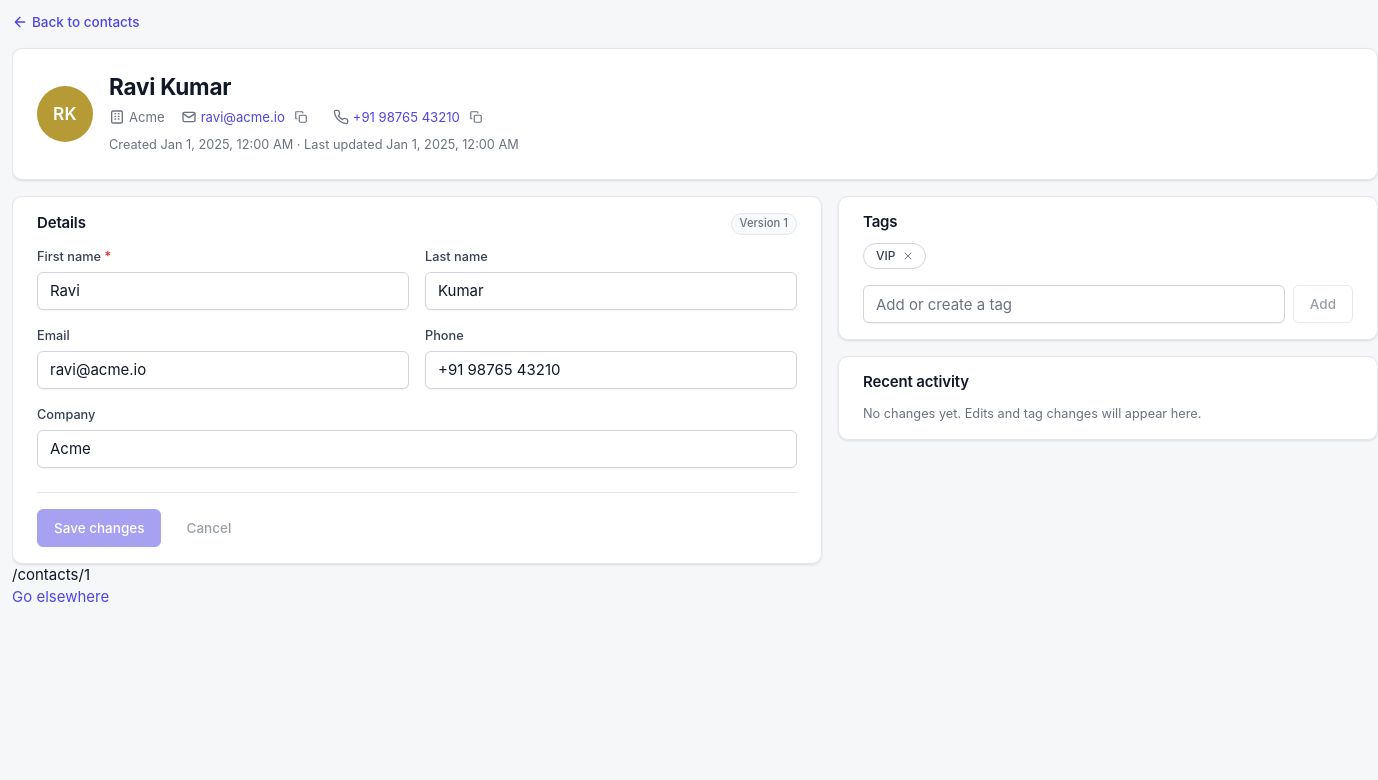
TagEditor: optimistic updates › shows a new tag instantly, marked pending, then confirmed when the server answers
This screenshot has width=1378, height=780.
Expected: the heading "Ravi Kumar" is shown, [109,73,231,100]
Type "Partner" into the dropdown named "New tag" at (1074, 304), box [863,285,1285,323]
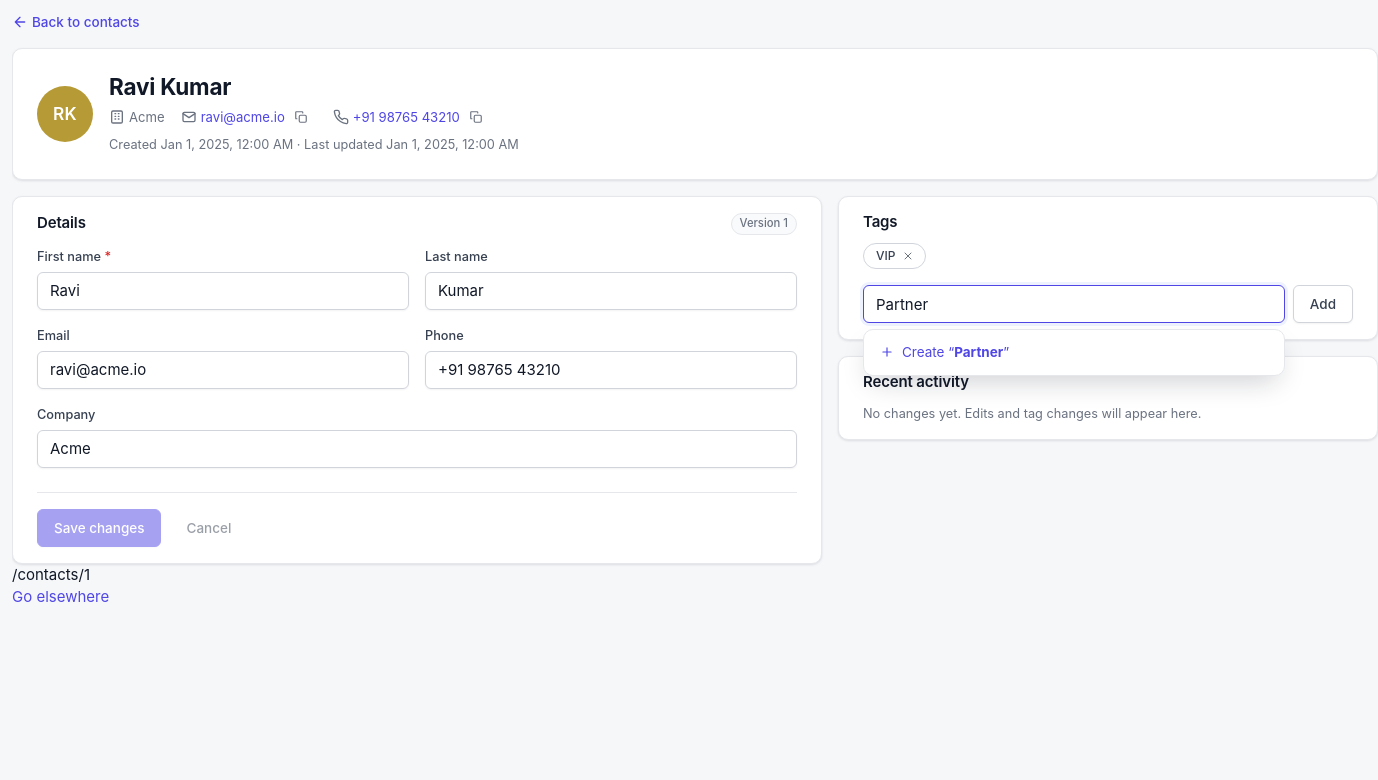
Click the button "Add" at (1323, 304), box [1293,285,1353,323]
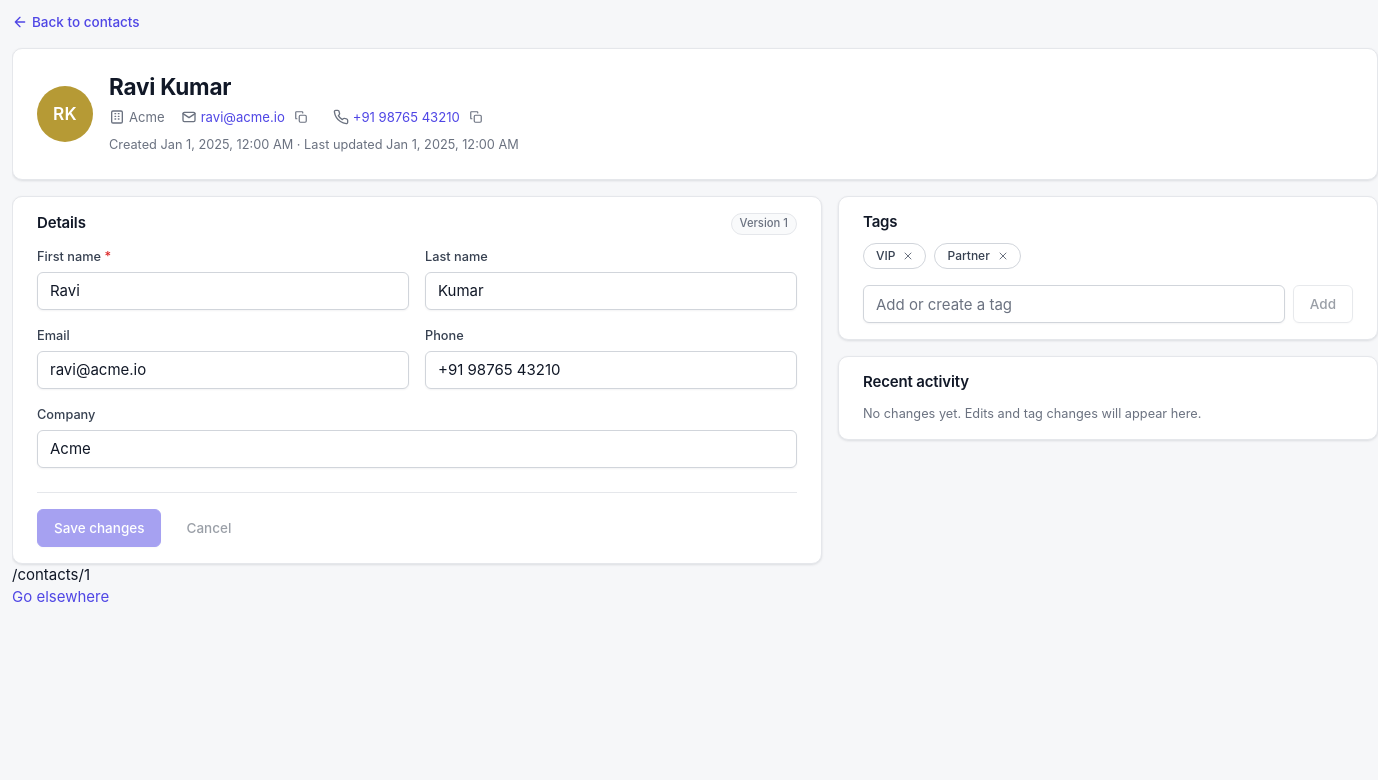
Expected: the dropdown named "New tag" is empty, [863,285,1285,323]
Expected: the button named "Remove tag Partner" is enabled, [994,247,1012,265]
